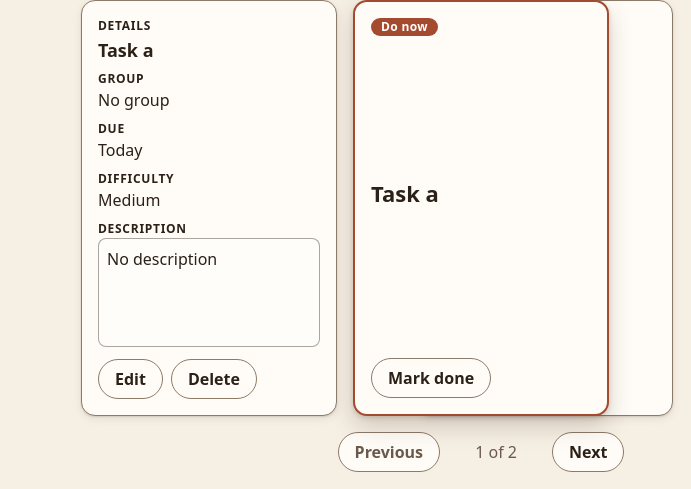
Test case: asking before a task is marked done › is not left open on a card that was moved away from
Click the button "Mark done": [431, 378] box [371,358,491,398]
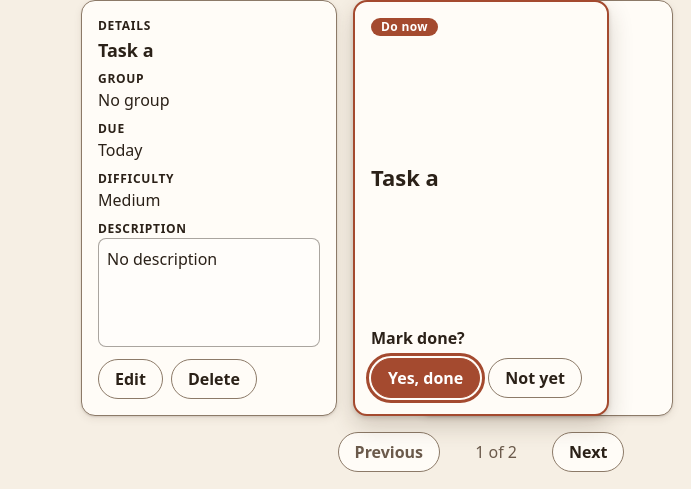
Press ArrowRight
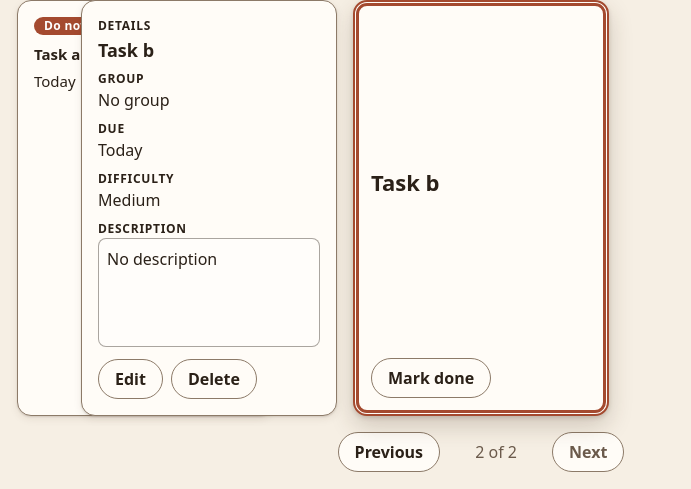
Expected: the text "Task b" is shown, [98,38,154,62]
Press ArrowLeft
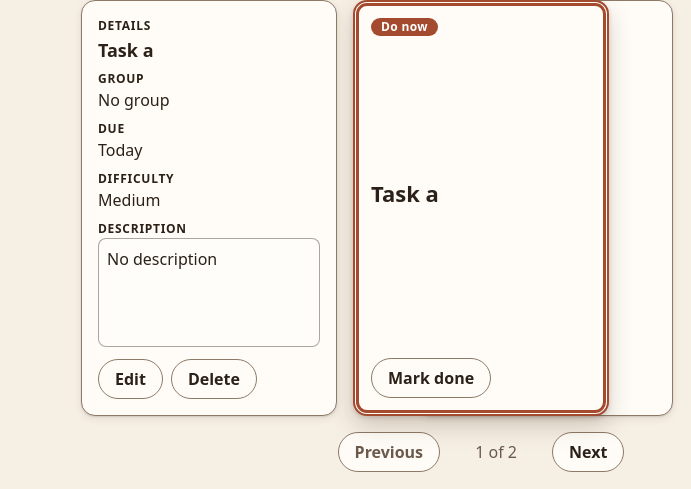
Expected: the text "Task a" is shown, [98,38,154,62]
